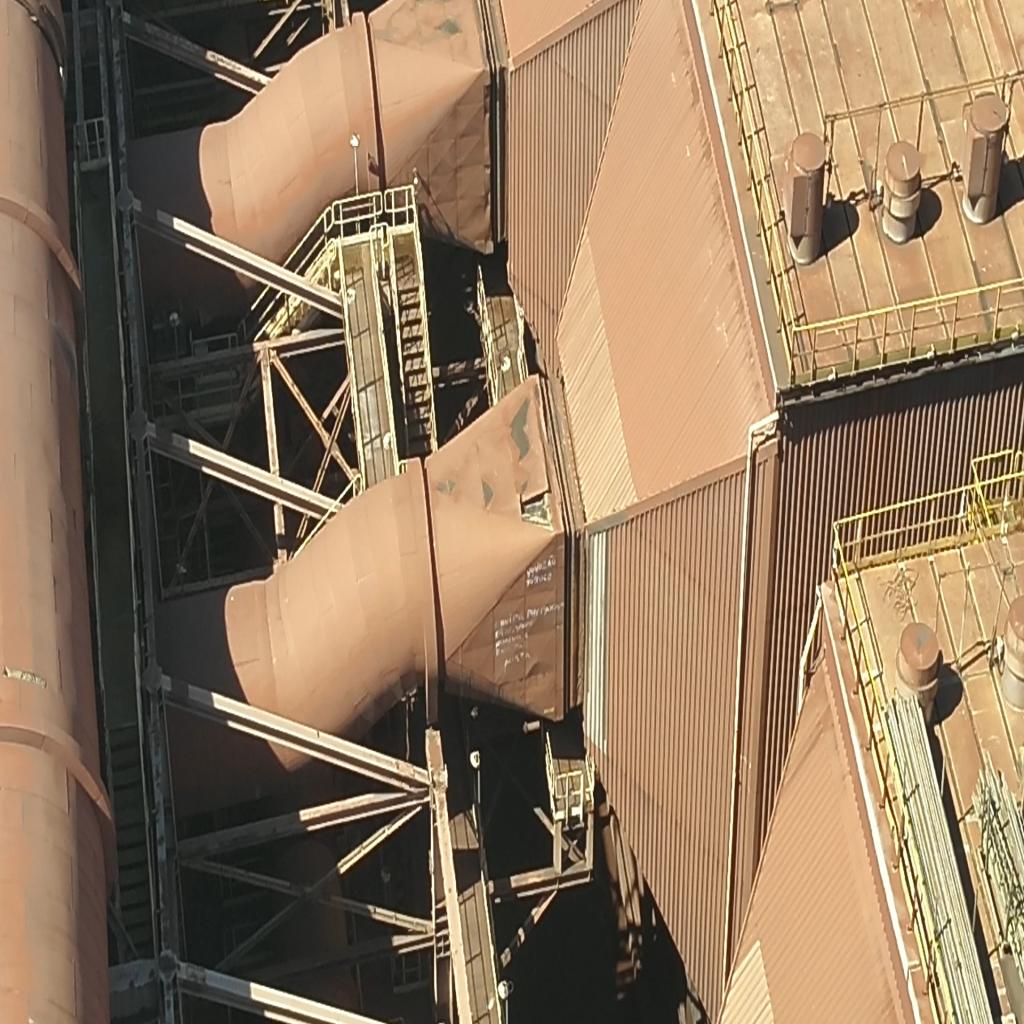Failures: (518, 473, 556, 534)
